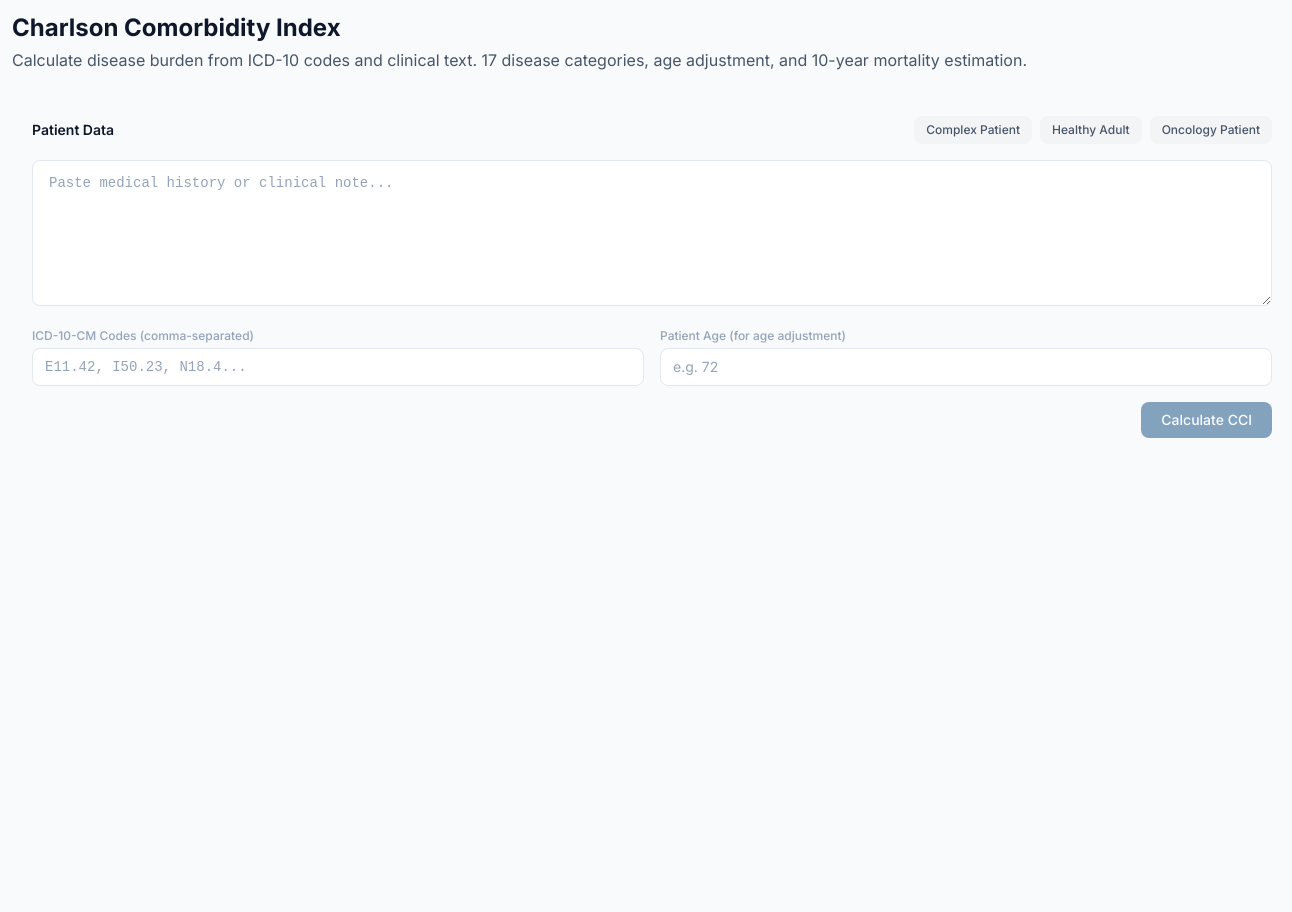
ComorbidityCalculator — API integration › renders CCI score after calculation
The image size is (1292, 912).
Click the button "Complex Patient". click: [973, 130]
box: [914,116,1032,144]
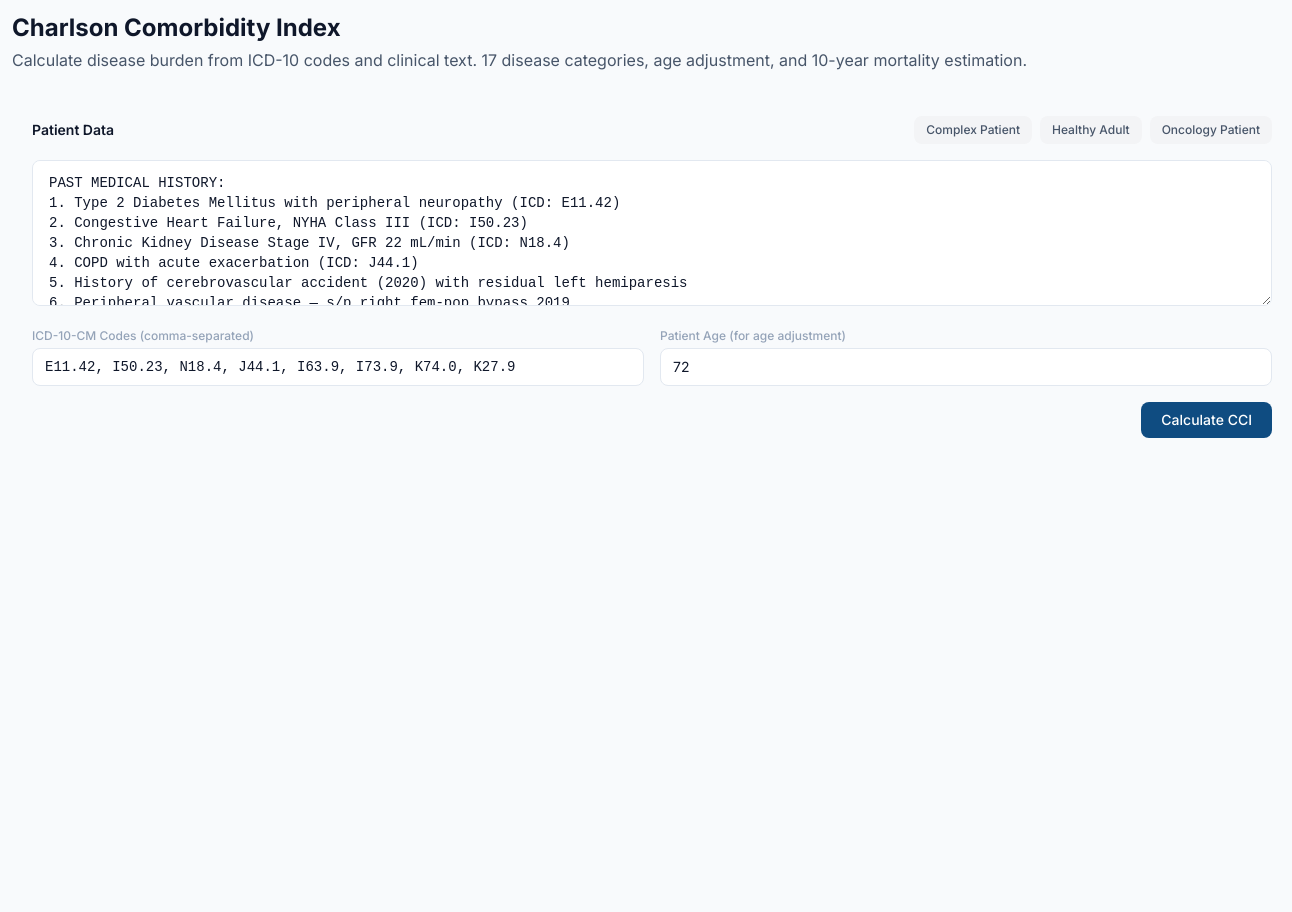
Click the button "Calculate CCI". click: [1207, 420]
box: [1141,402,1272,438]
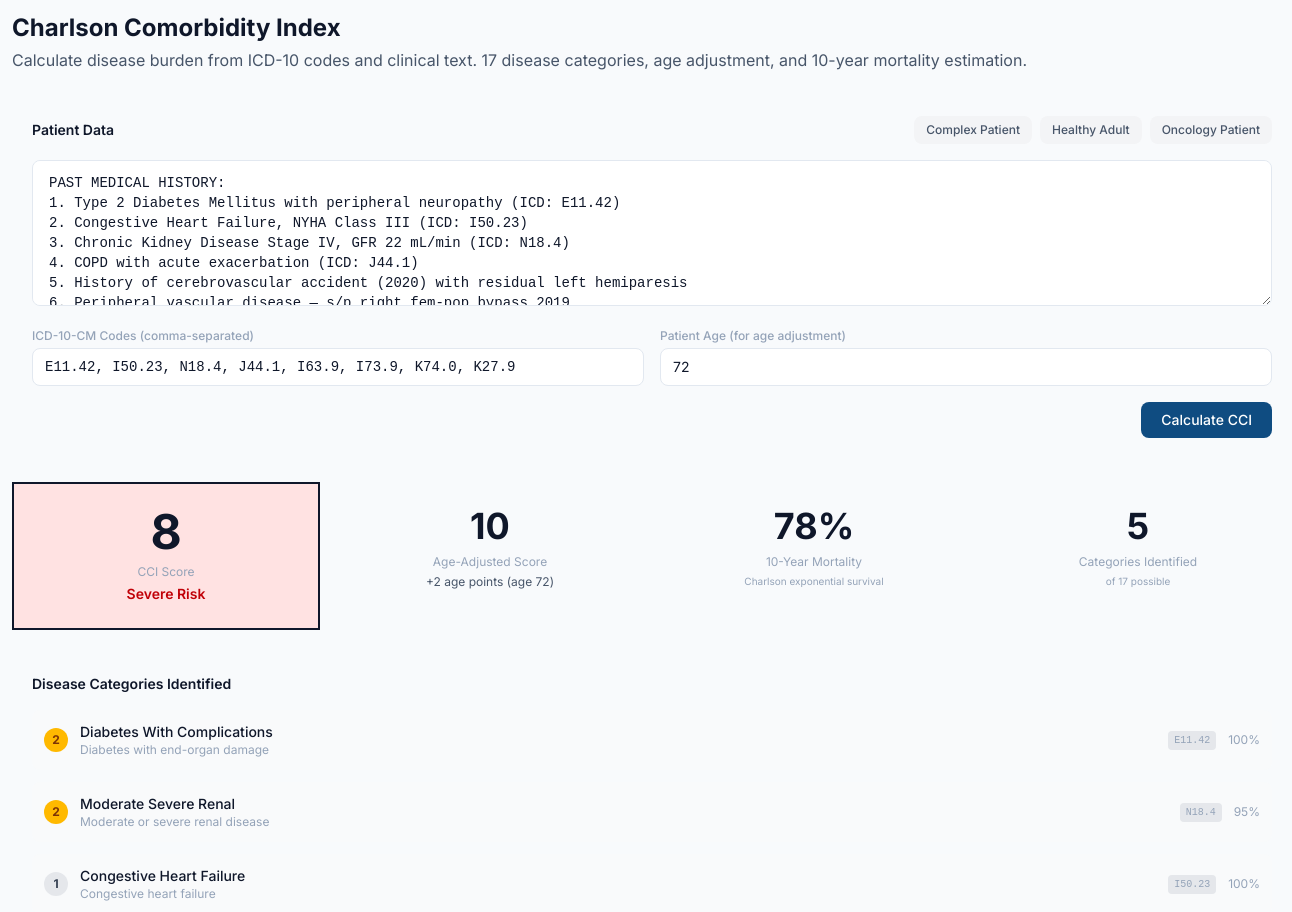
expect the text "8" is shown: met, box [150,502,182,561]
expect the text "CCI Score" is shown: met, box [137,564,195,579]
